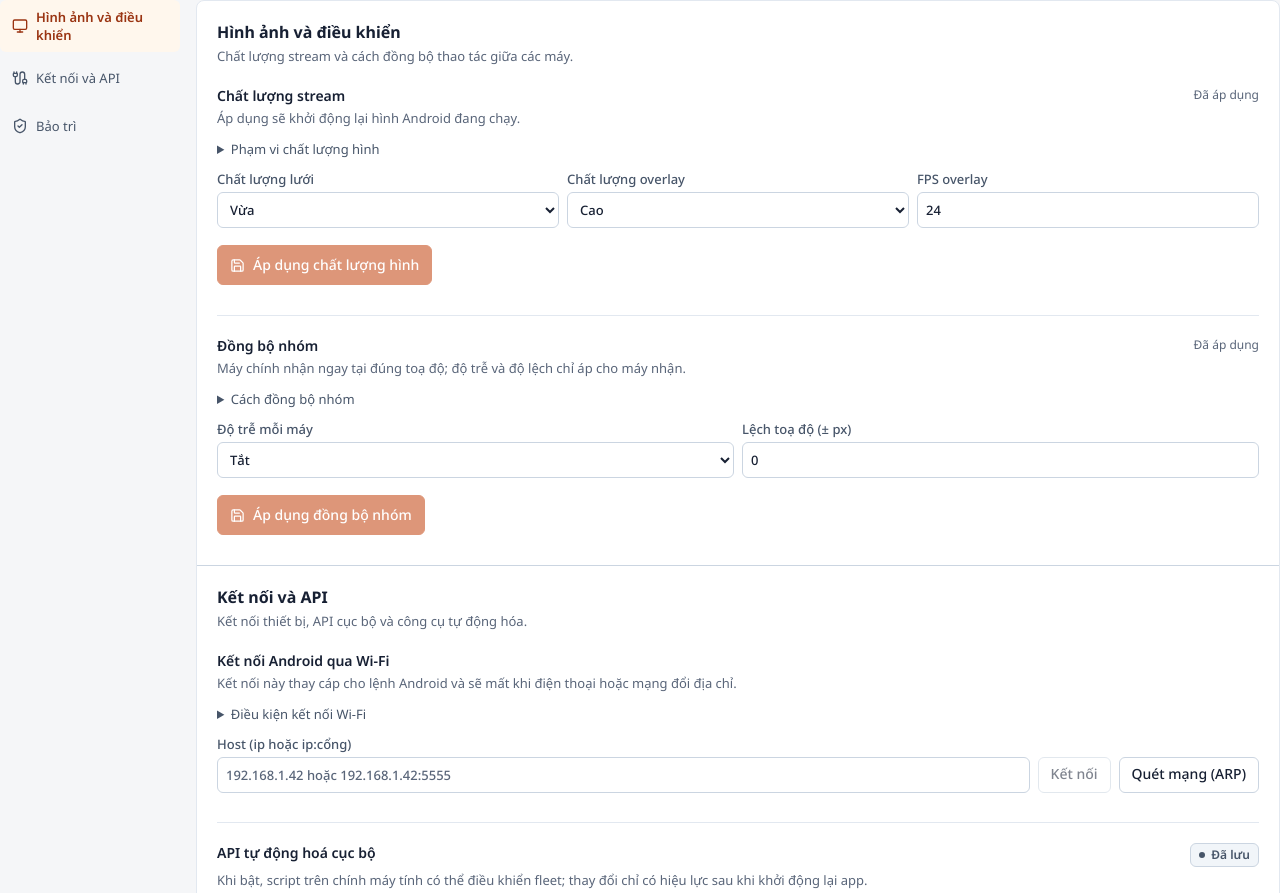
Test: independent settings drafts › rejects incomplete FPS without a request
Clear the number field labelled "FPS overlay" at {"x": 1088, "y": 210}, box [917,192,1259,228]
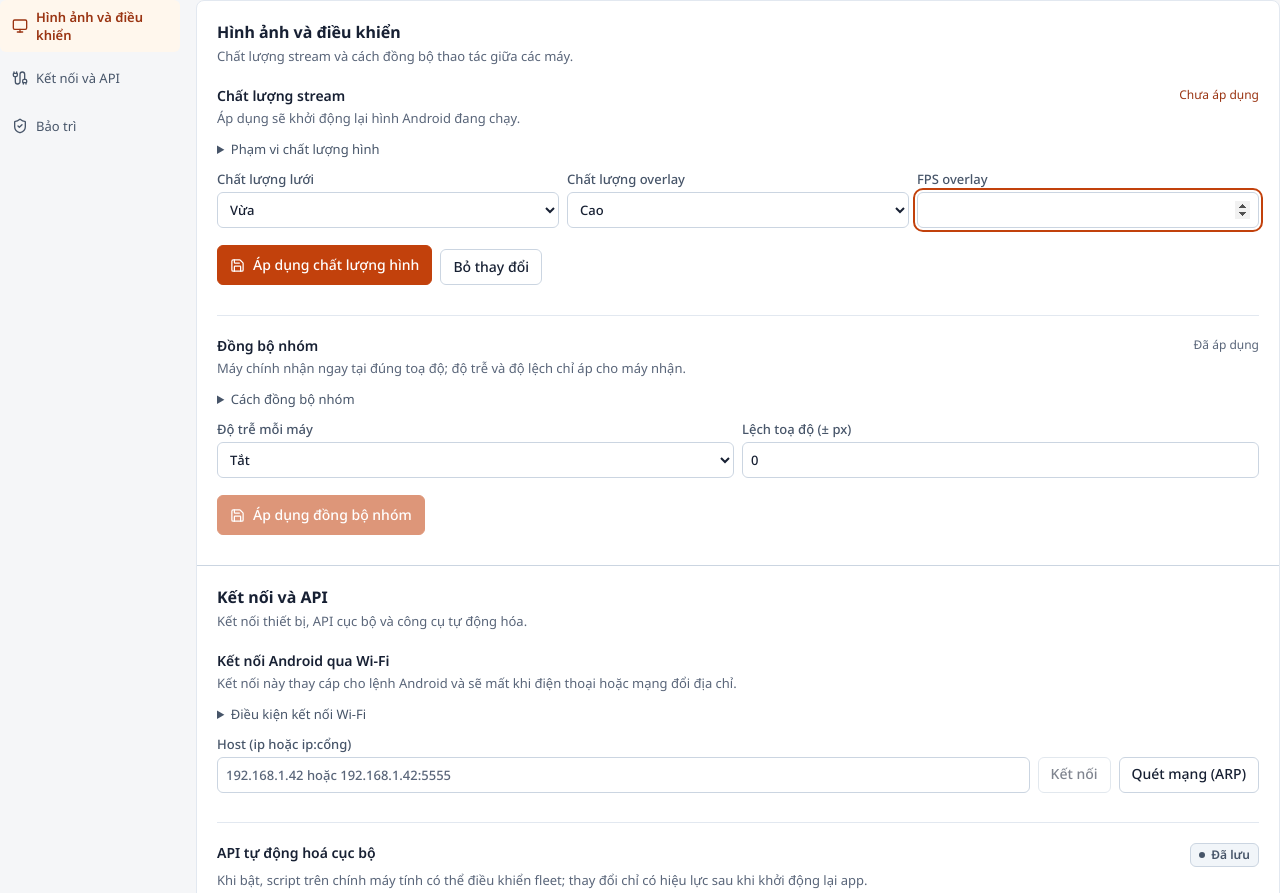
Click the button "Áp dụng chất lượng hình" at {"x": 325, "y": 265}, box [217,245,432,285]
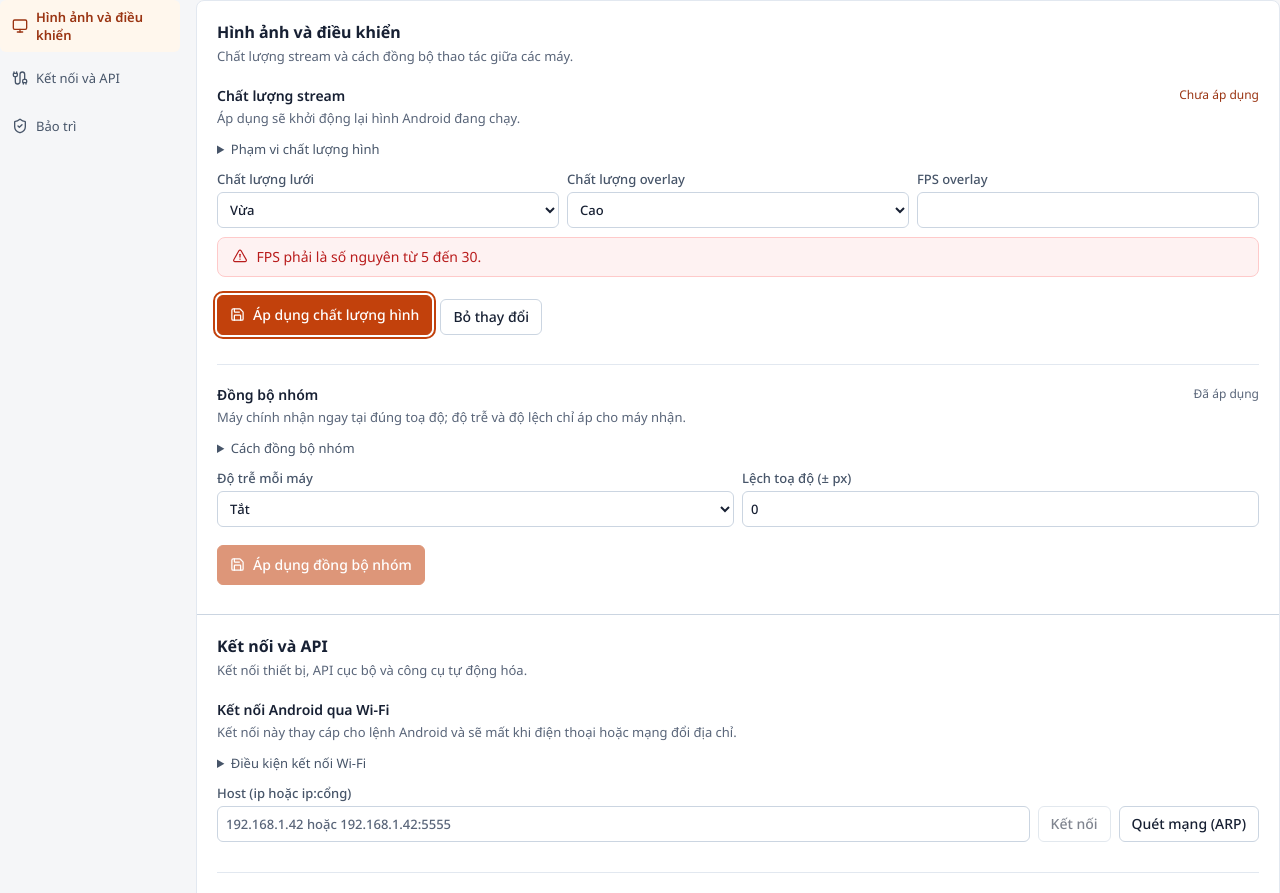
Expected: the text "FPS phải là số nguyên từ 5 đến 30." is shown, [256,247,481,266]
